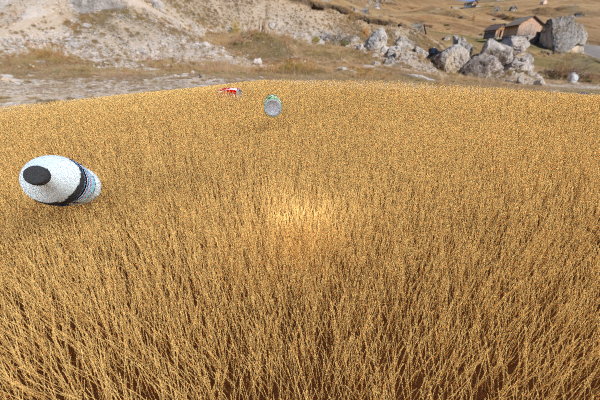bottle: (19, 155, 101, 206)
can: (263, 94, 282, 117), (215, 87, 242, 101)
